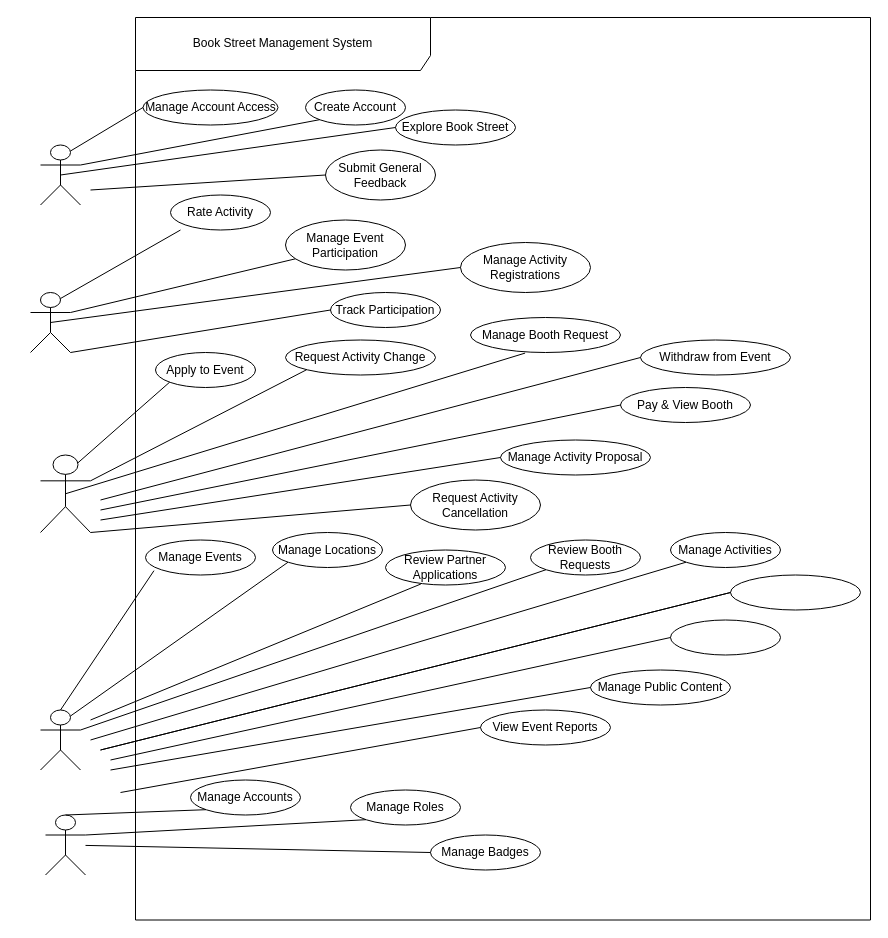
The diagram is 888 pixels wide and 938 high, and some of its shapes have lost their labels. Each missing label, with the centre of its shape:
"Event Organizer" goes at (60,739).
"Guest" goes at (60,174).
"Monitor Participation" goes at (795,592).
"Participant" goes at (50,322).
"Partner/Exhibitor" goes at (65,493).
"Review Activity Proposals" goes at (725,637).
"System Admin" goes at (65,844).
